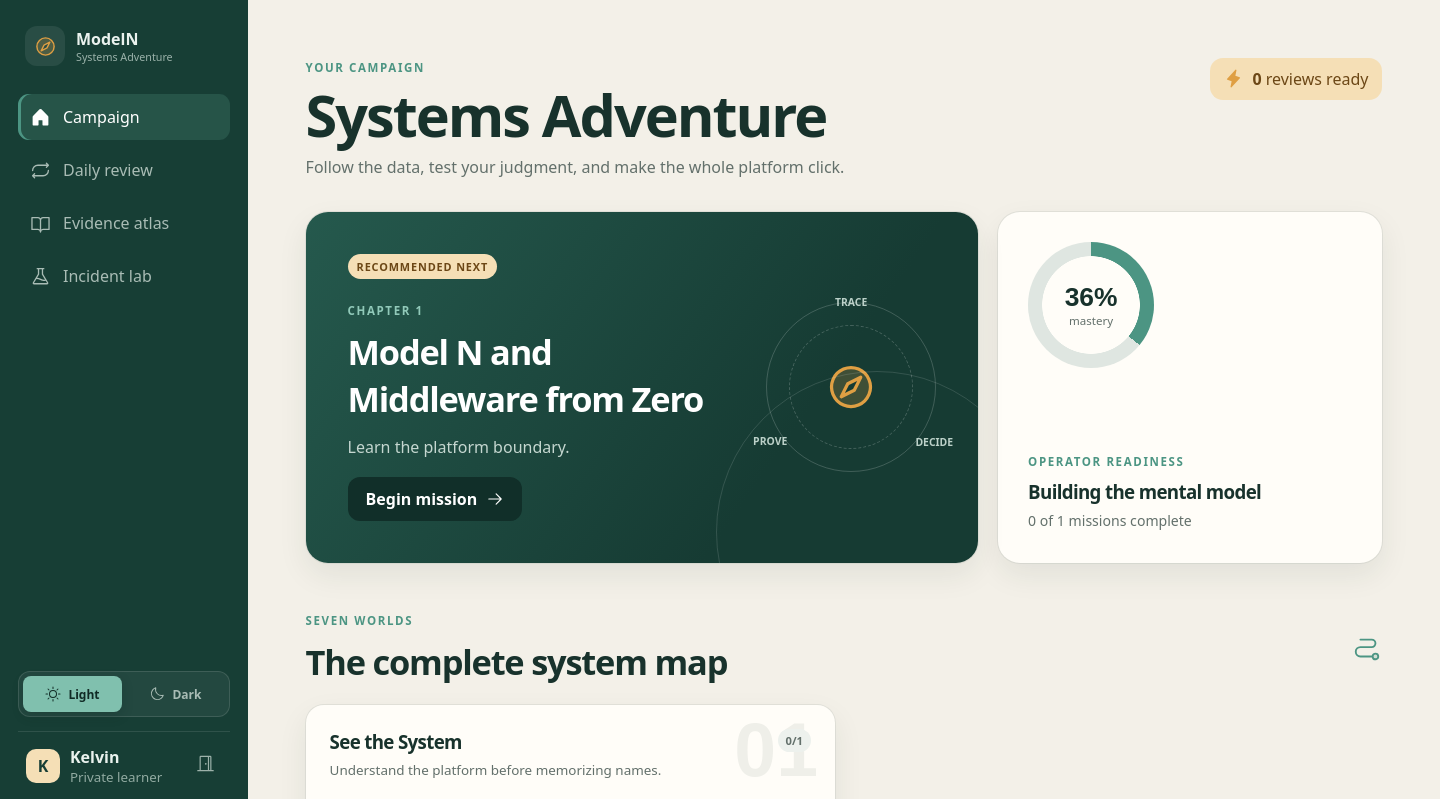
Test: ModelN Systems Adventure › searches the evidence atlas and keeps source classification visible
Click the button "Evidence atlas" at (124, 223), box left=18, top=200, right=230, bottom=246
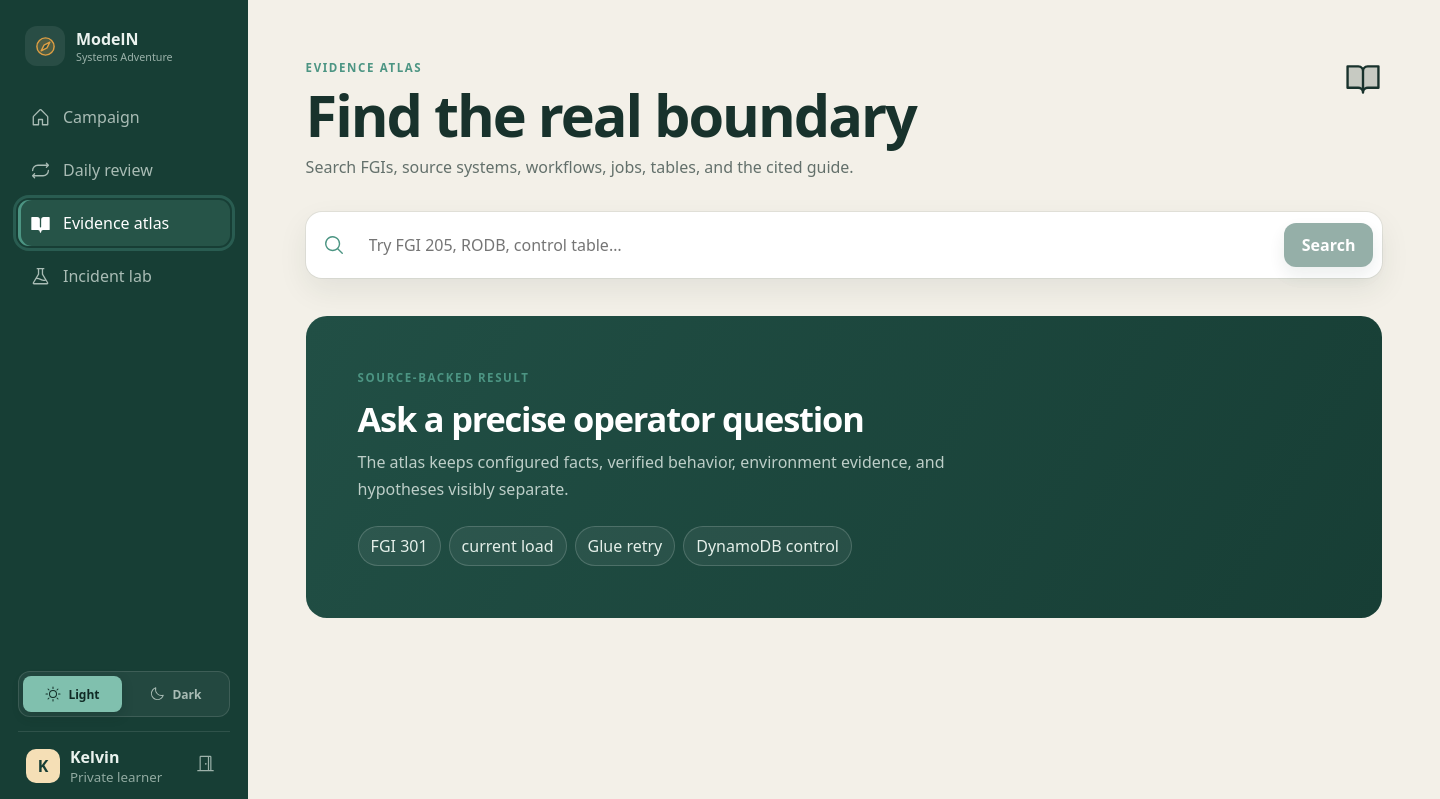
Type "FGI" into the search field at (814, 245), box left=355, top=221, right=1274, bottom=269
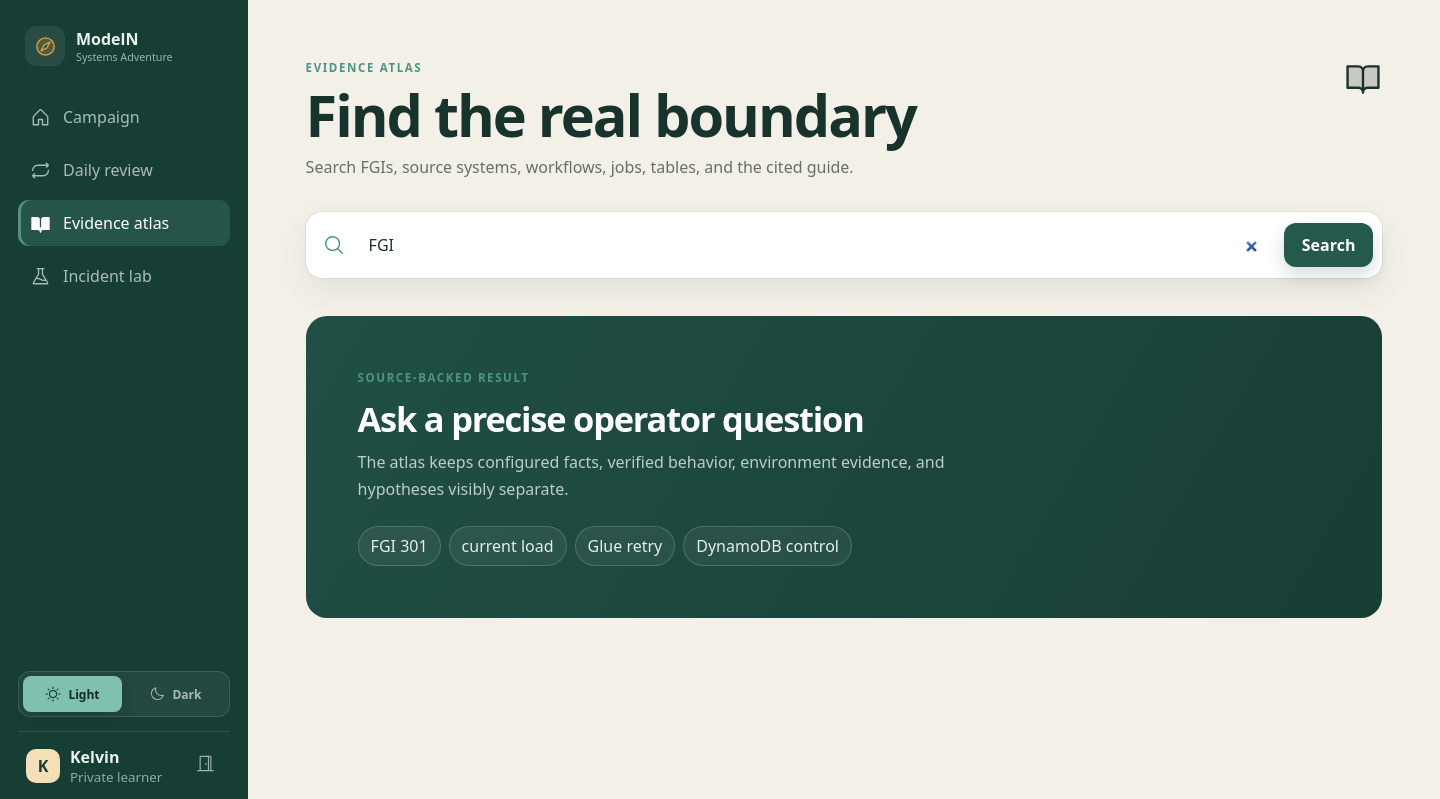
Click the button "Search" at (1329, 245), box left=1284, top=223, right=1373, bottom=267
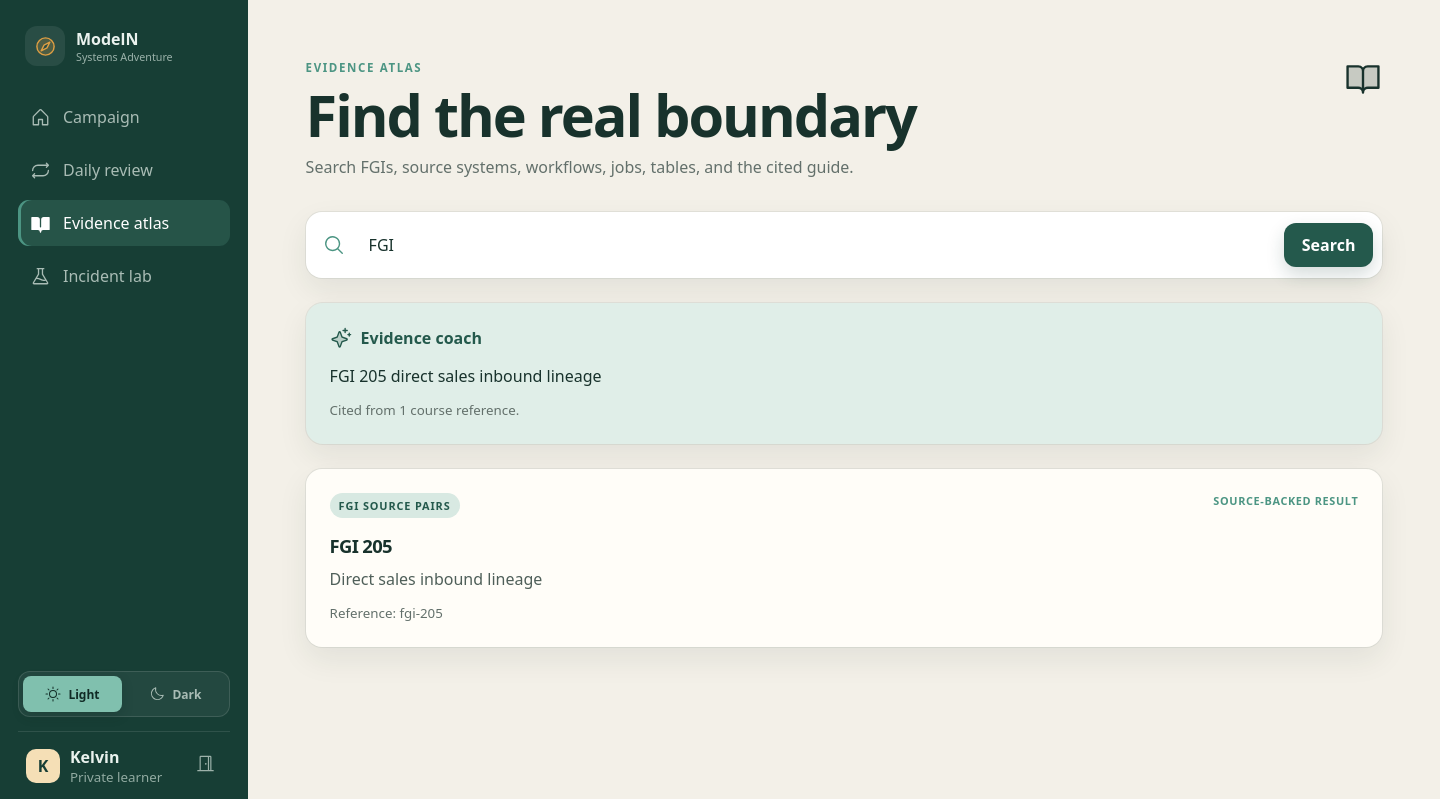
Expected: the text "Source-backed result" is shown, left=1213, top=493, right=1358, bottom=518
Expected: the heading "FGI 205" is shown, left=330, top=533, right=392, bottom=558
